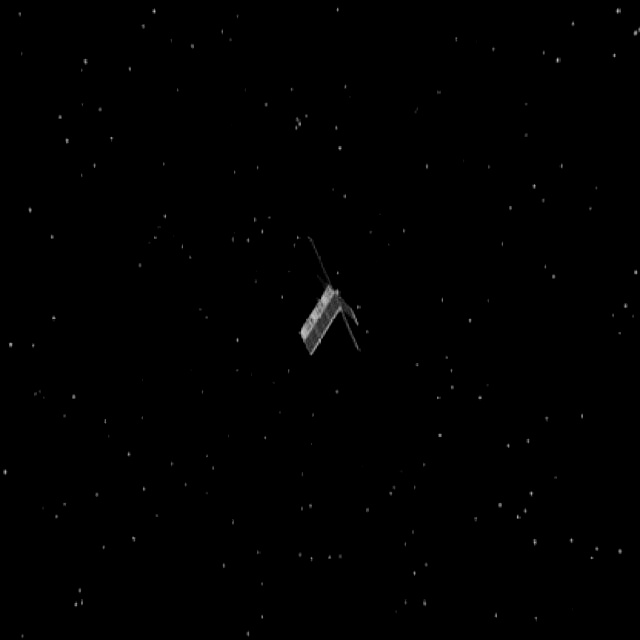medium_debris: (286, 230, 377, 367)
